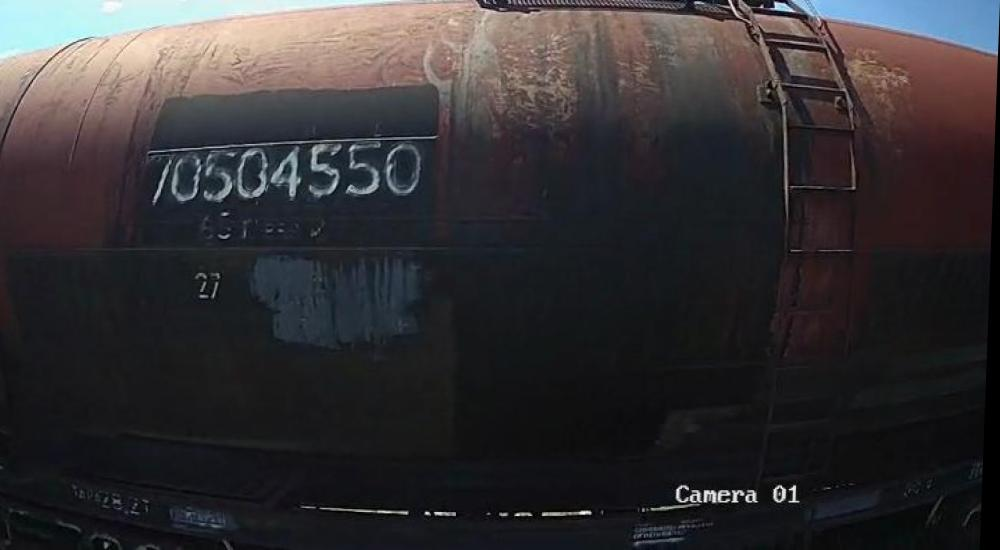Wagon-number: (139, 138, 429, 209)
